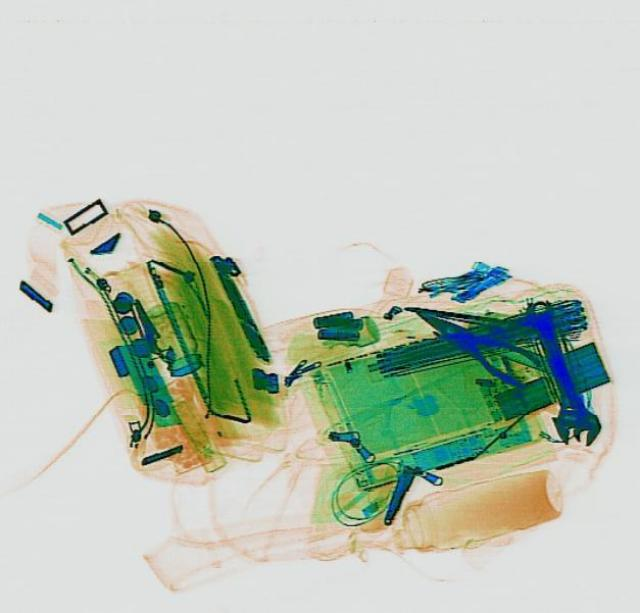Pliers: (402, 295, 544, 390)
Wrench: (514, 293, 604, 450)
